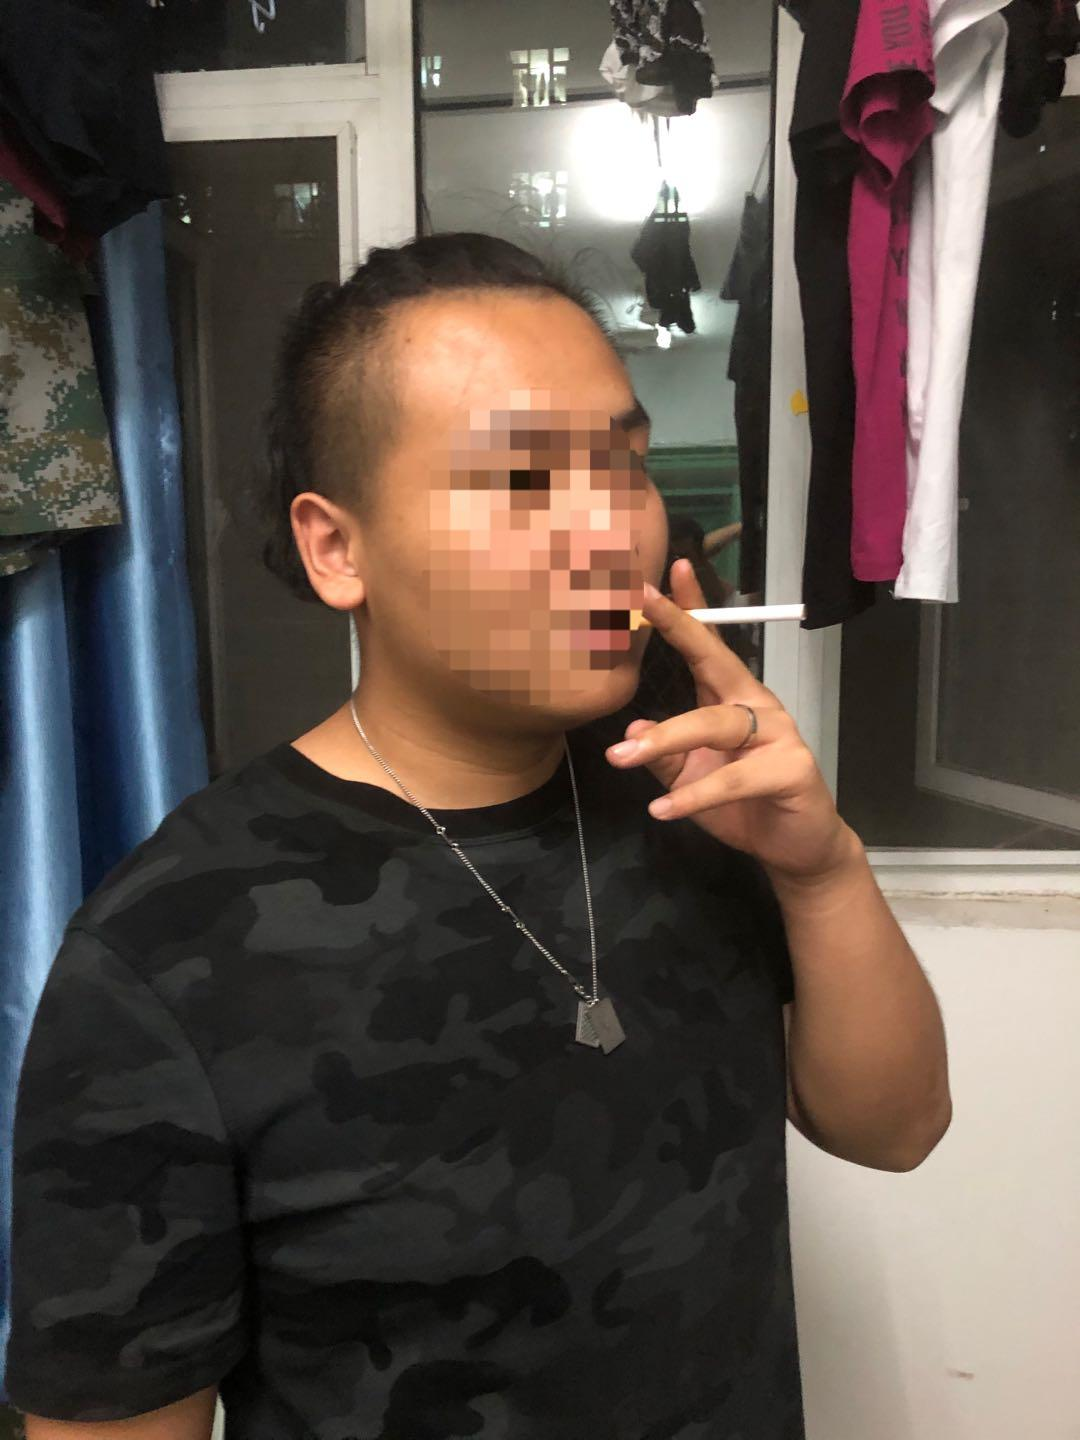smoke: (628, 594, 817, 632)
